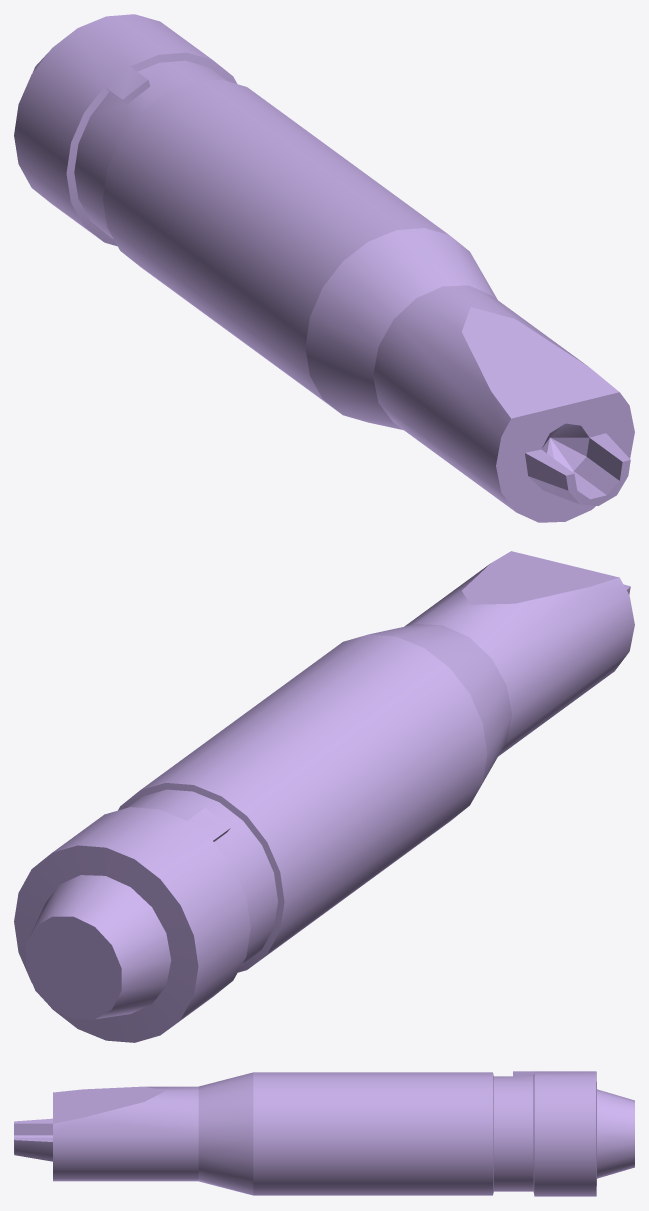
Rendered from psb5.fbx.
3 views of the same model, one above another, from view 1: azimuth 30°, elevation 25°; view 2: azimuth 150°, elevation 25°; view 3: azimuth 270°, elevation 25° (orthographic). The views are drawn at different scales.
Parts seen in each view (by area): view 1: sovet_suppressor; view 2: sovet_suppressor; view 3: sovet_suppressor.
Part boxes in pixels (x1,y1,x2,y2): sovet_suppressor: (14, 14, 634, 522); sovet_suppressor: (14, 551, 634, 1042); sovet_suppressor: (14, 1071, 634, 1196).
Bounding box in the file's own units: 1.48 × 1.48 × 7.29.
